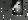person: (13, 1, 24, 16)
